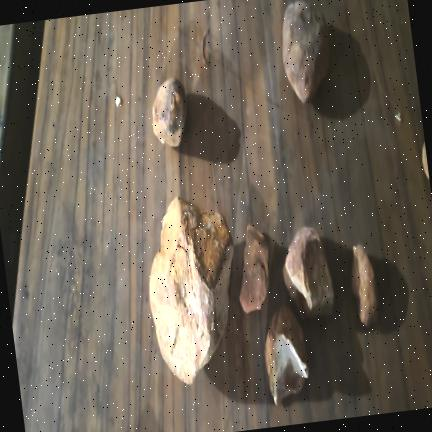Rocks: (149, 198, 232, 383), (282, 2, 328, 102), (283, 228, 333, 318), (264, 308, 307, 404), (239, 226, 267, 313), (152, 79, 186, 147), (351, 245, 377, 326), (421, 144, 428, 178)
